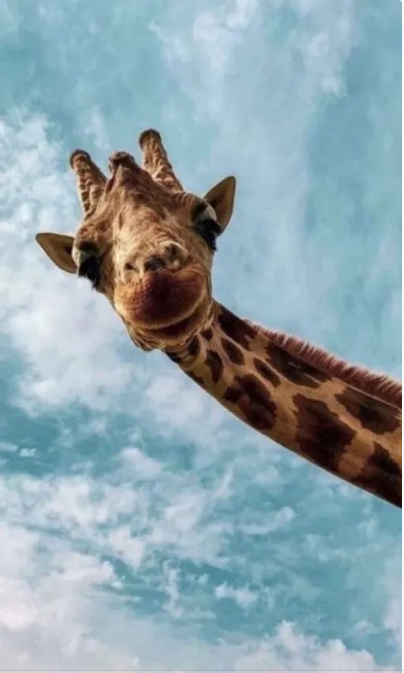giraffe: (22, 119, 395, 507)
